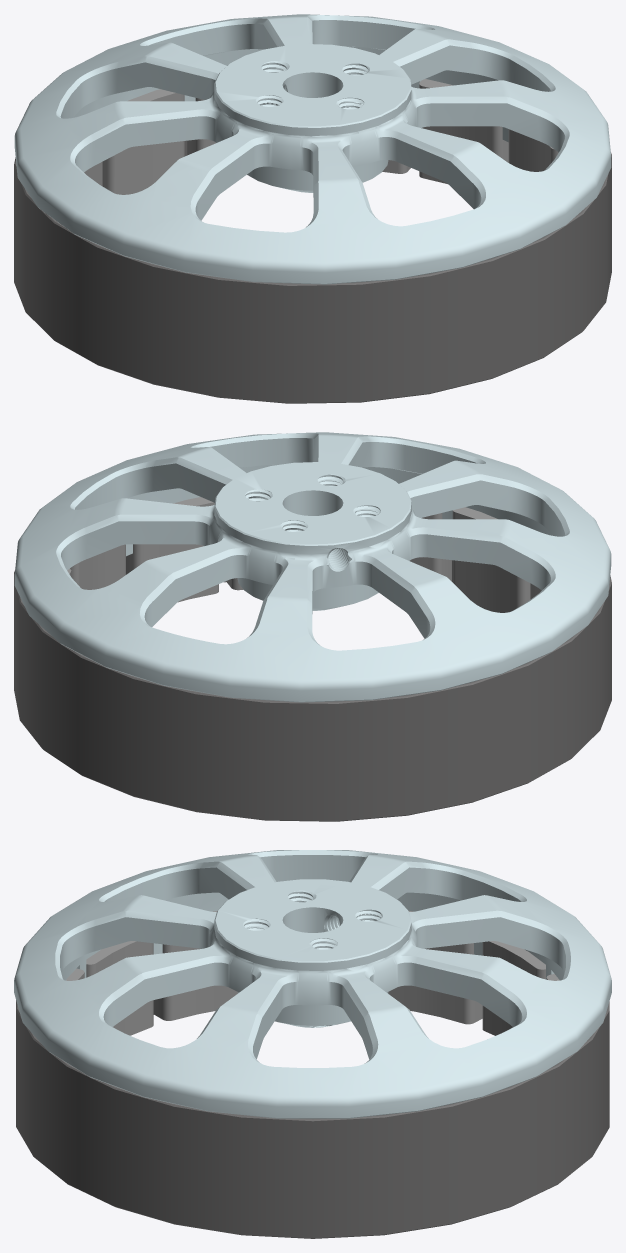
File: rotar.glb
3 views of the same model, one above another, from view 1: azimuth 30°, elevation 25°; view 2: azimuth 150°, elevation 25°; view 3: azimuth 270°, elevation 25° (orthographic).
Visible parts, largest first — view 1: rotor v1; view 2: rotor v1; view 3: rotor v1.
Part boxes in pixels (box(x1,y1,x2,y2)): rotor v1: box(14, 14, 611, 403); rotor v1: box(14, 432, 611, 821); rotor v1: box(14, 850, 611, 1238).
Bounding box in the file's own units: 0.059 × 0.021 × 0.059.
